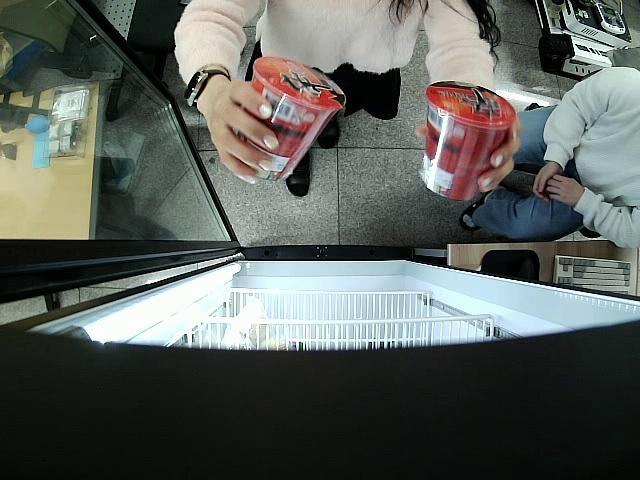02_shinRamen_S: (233, 56, 346, 184), (418, 80, 514, 201)
